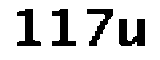1: (49, 8, 82, 52), (11, 7, 43, 52)
7: (83, 4, 114, 54)
u: (119, 17, 148, 52)
